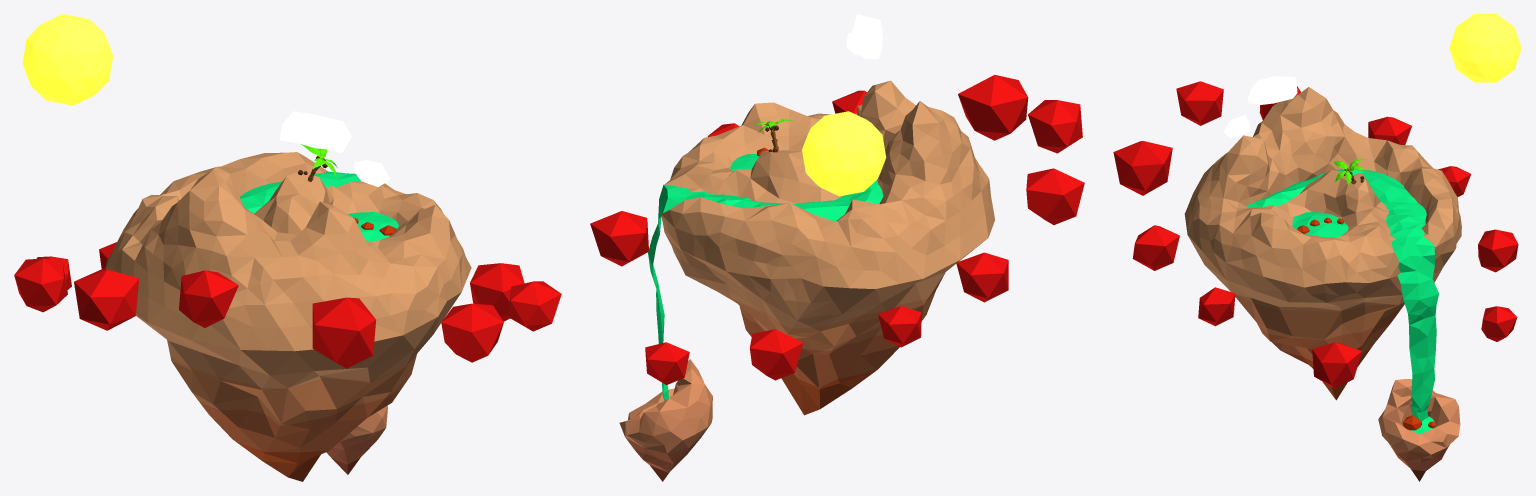
3 renders of one model, left to right at view 1: azimuth 30°, elevation 25°; view 2: azimuth 150°, elevation 25°; view 3: azimuth 270°, elevation 25°, orthographic. The views are drawn at different scales.
Parts seen in each view (by area): view 1: Icosphere_2, Icosphere.006_17, Icosphere.021_32, Icosphere.019_30, Icosphere.022_33, Icosphere.020_31, Icosphere.018_29, Icosphere.007_18, Icosphere.023_34, Icosphere.024_35, Plane_3, Icosphere.001_4 (+1 smaller); view 2: Icosphere_2, Icosphere.001_4, Icosphere.006_17, Plane_3, Icosphere.021_32, Icosphere.019_30, Icosphere.024_35, Icosphere.020_31, Icosphere.015_26, Icosphere.018_29, Icosphere.016_27, Icosphere.017_28 (+2 smaller); view 3: Icosphere_2, Plane_3, Icosphere.001_4, Icosphere.006_17, Icosphere.021_32, Icosphere.024_35, Icosphere.020_31, Icosphere.022_33, Icosphere.015_26, Icosphere.007_18, Icosphere.023_34, Icosphere.016_27 (+2 smaller).
Boxes of the visible parts, box(x1,y1,x2,y2) form: Icosphere_2: box(105, 152, 471, 481); Icosphere.006_17: box(22, 14, 113, 105); Icosphere.021_32: box(312, 297, 376, 368); Icosphere.019_30: box(74, 268, 139, 330); Icosphere.022_33: box(441, 303, 503, 362); Icosphere.020_31: box(179, 270, 238, 327); Icosphere.018_29: box(14, 258, 67, 312); Icosphere.007_18: box(279, 111, 351, 153); Icosphere.023_34: box(508, 281, 561, 331); Icosphere.024_35: box(470, 263, 524, 321); Plane_3: box(240, 171, 398, 241); Icosphere.001_4: box(326, 405, 387, 474); Icosphere_2: box(661, 80, 994, 415); Icosphere.001_4: box(619, 359, 712, 481); Icosphere.006_17: box(802, 111, 886, 196); Plane_3: box(648, 154, 883, 400); Icosphere.021_32: box(958, 74, 1028, 140); Icosphere.019_30: box(1026, 168, 1084, 224); Icosphere.024_35: box(590, 211, 648, 266); Icosphere.020_31: box(1028, 100, 1082, 153); Icosphere.015_26: box(750, 329, 802, 380); Icosphere.018_29: box(956, 252, 1008, 302); Icosphere.016_27: box(645, 342, 689, 384); Icosphere.017_28: box(878, 306, 921, 347); Icosphere_2: box(1184, 87, 1461, 400); Plane_3: box(1246, 169, 1438, 421); Icosphere.001_4: box(1378, 379, 1460, 481); Icosphere.006_17: box(1449, 14, 1521, 82); Icosphere.021_32: box(1113, 141, 1172, 195); Icosphere.024_35: box(1312, 342, 1361, 388); Icosphere.020_31: box(1176, 81, 1223, 125); Icosphere.022_33: box(1132, 225, 1179, 270); Icosphere.015_26: box(1478, 229, 1518, 272); Icosphere.007_18: box(1248, 76, 1297, 104); Icosphere.023_34: box(1198, 287, 1235, 326); Icosphere.016_27: box(1481, 306, 1517, 341).
Size of the model in its own units: 28.75 by 27.64 by 27.17.
